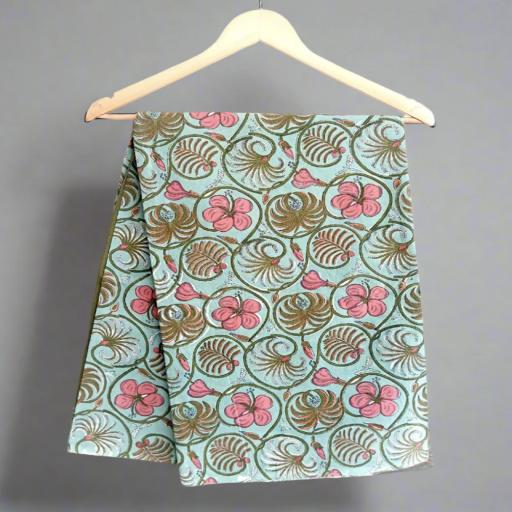Dupatta: (65, 81, 450, 491)
